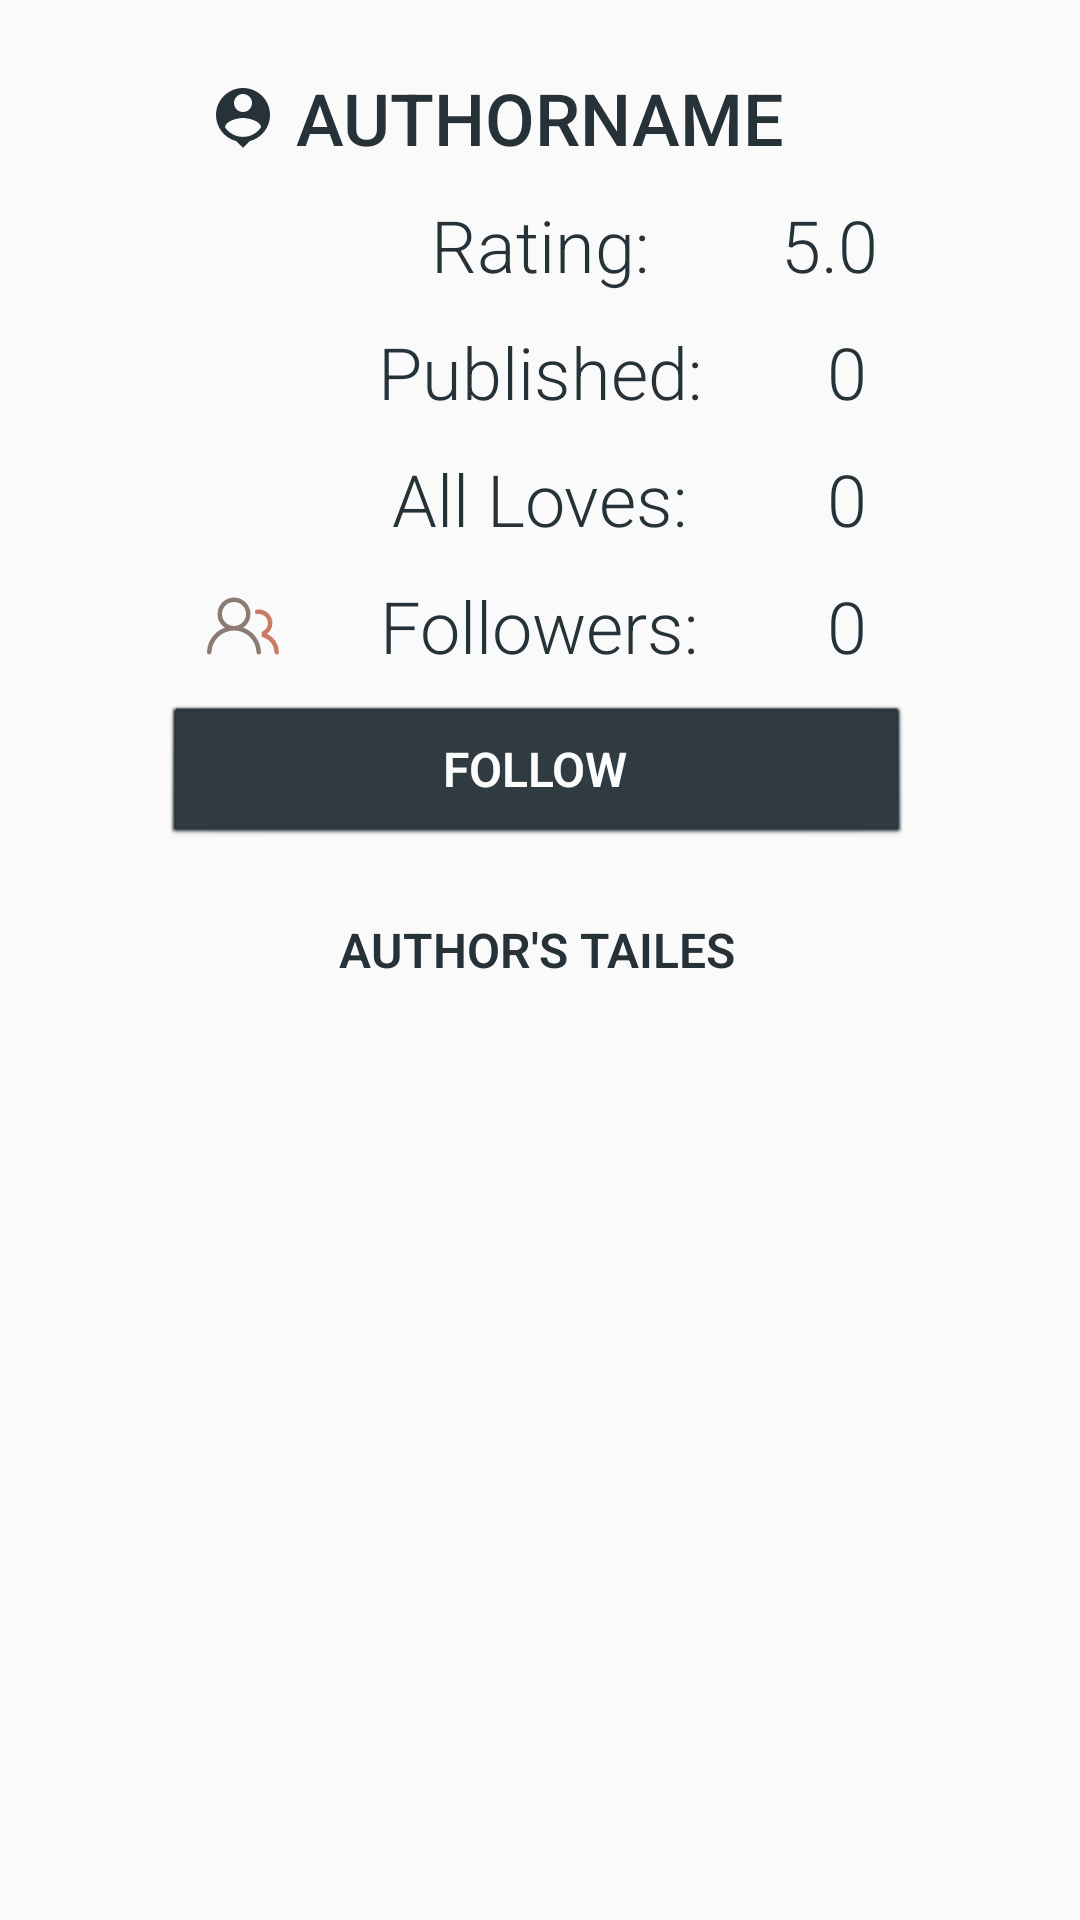

Icon bounding boxes for this 1080px x 1920px phone screenshot, format rect(x1, y1, x2, y2):
User Profile Icon: rect(216, 88, 270, 148)
